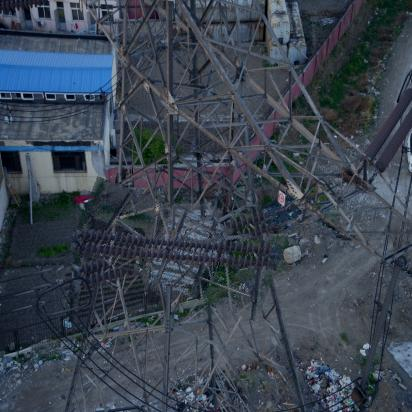insulator: (74, 194, 282, 306)
